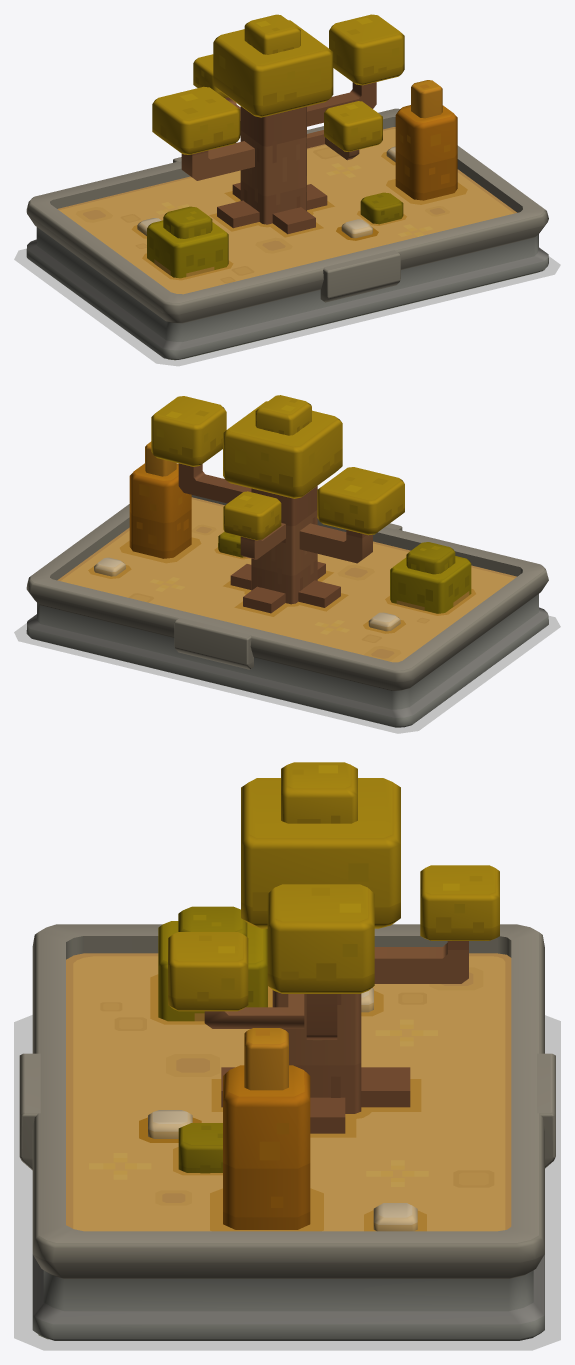
File: MG_mountain01_rect_small.fbx
The picture shows the model from 3 angles, top to bottom: view 1: azimuth 30°, elevation 25°; view 2: azimuth 150°, elevation 25°; view 3: azimuth 270°, elevation 25°; orthographic projection. The views are drawn at different scales.
Visible parts, largest first — view 1: model, ground; view 2: model, ground; view 3: model, ground.
Part boxes in pixels (left/top/right/bottom): model: left=26, top=14, right=548, bottom=360; ground: left=14, top=248, right=560, bottom=366; model: left=26, top=395, right=548, bottom=727; ground: left=14, top=616, right=560, bottom=733; model: left=19, top=762, right=555, bottom=1340; ground: left=14, top=1015, right=560, bottom=1350.
Size of the model in its own units: 14.67 by 8.06 by 9.97.
